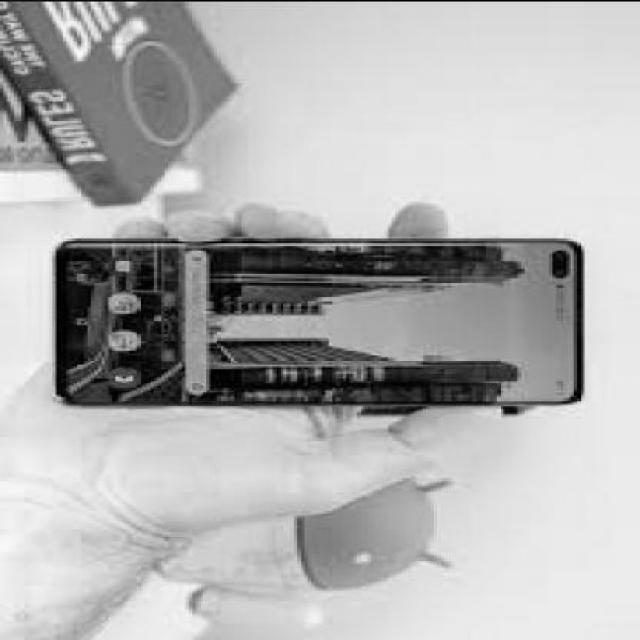fake: (49, 238, 588, 407)
